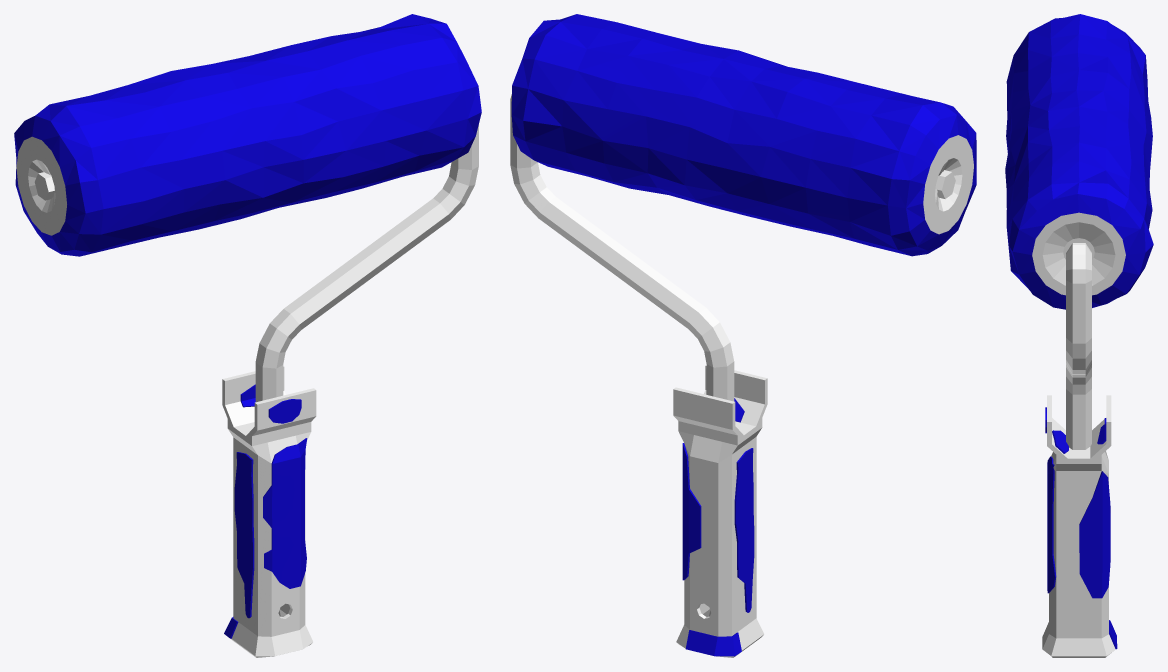
File: SM_Paint_Roller_In_Paint.glb
3 renders of one model, left to right at view 1: azimuth 30°, elevation 25°; view 2: azimuth 150°, elevation 25°; view 3: azimuth 270°, elevation 25°, orthographic. The views are drawn at different scales.
Parts seen in each view (by area): view 1: SM_Paint_Roller_In_Paint; view 2: SM_Paint_Roller_In_Paint; view 3: SM_Paint_Roller_In_Paint.
Boxes of the visible parts, bbox=[...] form: SM_Paint_Roller_In_Paint: bbox=[14, 14, 481, 657]; SM_Paint_Roller_In_Paint: bbox=[510, 14, 976, 657]; SM_Paint_Roller_In_Paint: bbox=[1005, 14, 1153, 657].
Size of the model in its own units: 0.3208 by 0.4128 by 0.1029.
